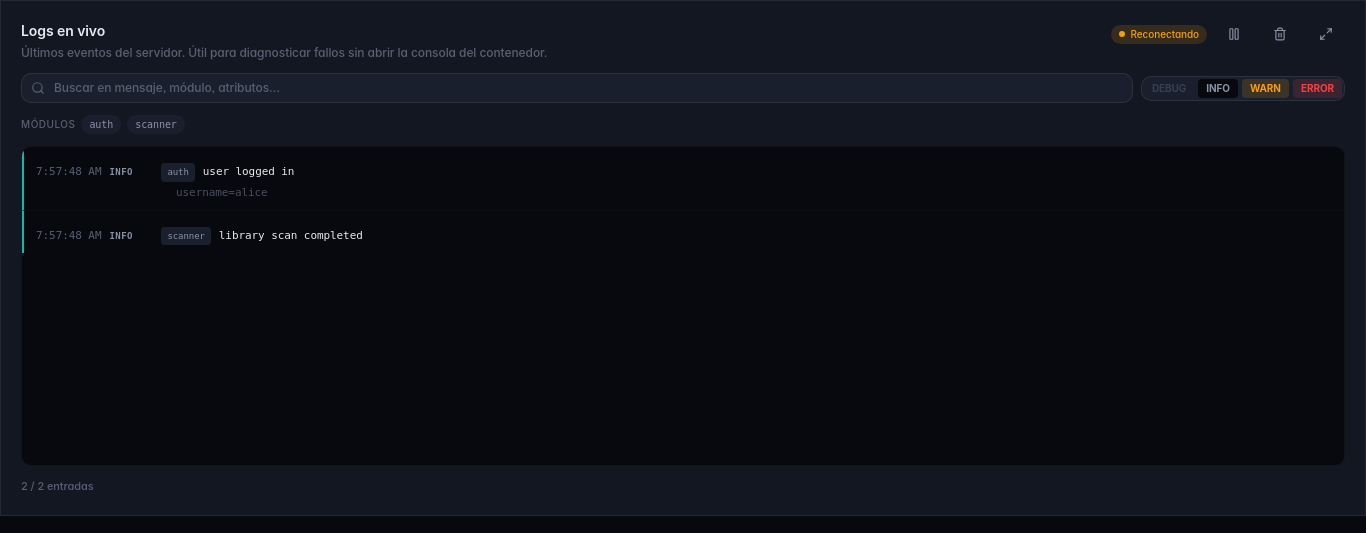
Test: LogsPanel pause / drain › search filters entries by substring over message + attrs
Check: the text "user logged in" is shown, box [203,165,294,178]
Check: the text "library scan completed" is shown, box [219,228,363,242]
Type "alice" into the field with placeholder "Buscar en mensaje, módulo, atributos…" at x=577, y=88, box [21,73,1133,103]
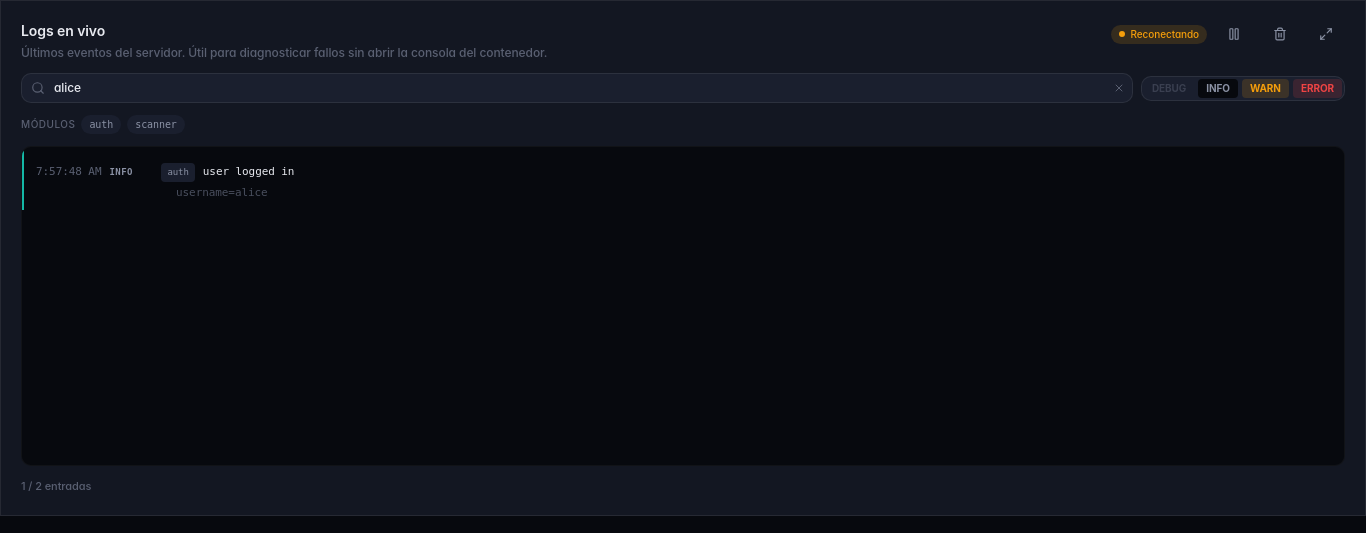
Check: the text "user logged in" is shown, box [203,165,294,178]
Check: the button "library scan completed" is gone
